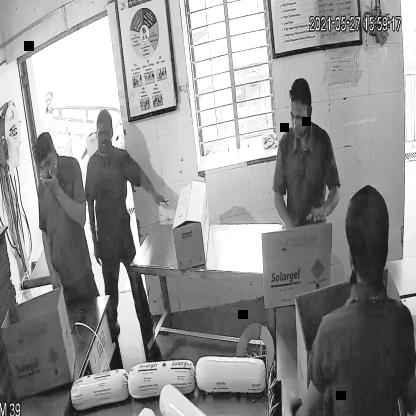no_goggles: (32, 154, 62, 176), (288, 107, 316, 126)
